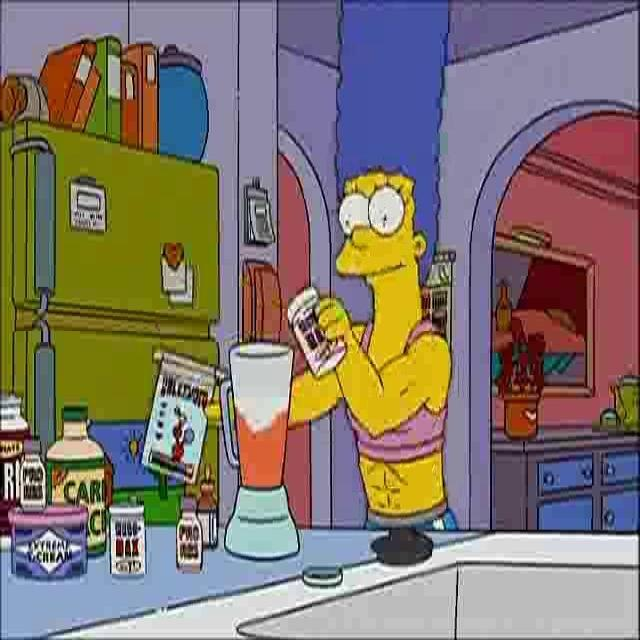Marge Simpson: (333, 1, 453, 319)
